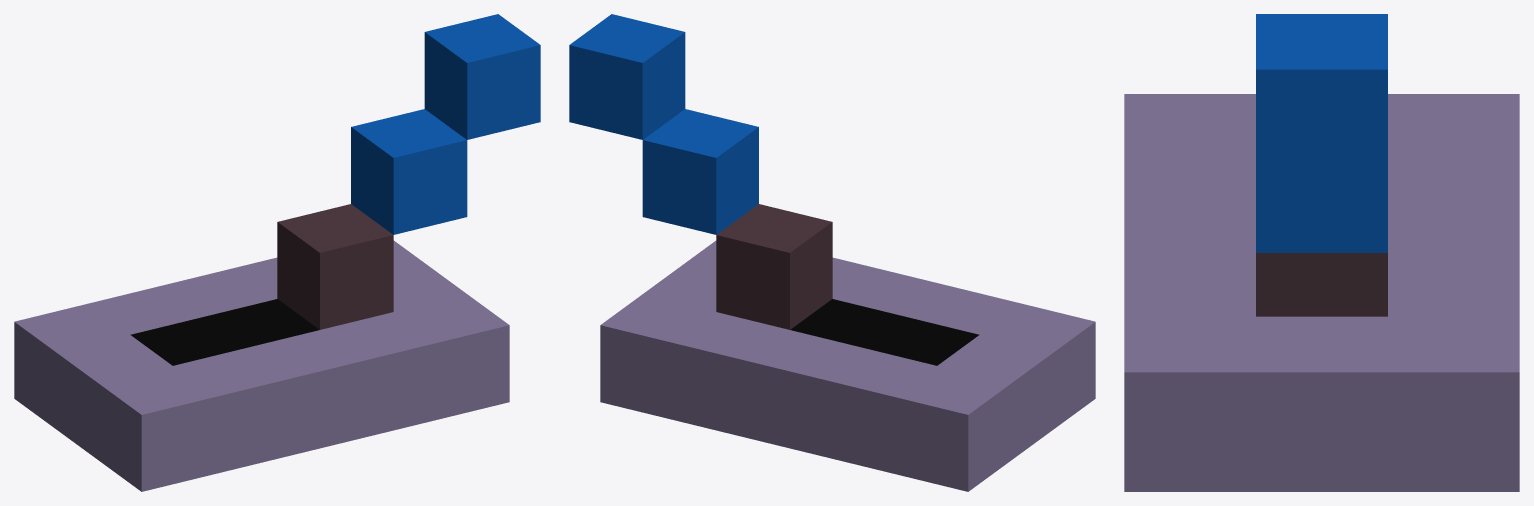
The model's file is lever_a_b_blue_on.obj.
3 views of the same model, side by side, from view 1: azimuth 30°, elevation 25°; view 2: azimuth 150°, elevation 25°; view 3: azimuth 270°, elevation 25° (orthographic). The views are drawn at different scales.
Size of the model in its own units: 0.6 by 0.4 by 0.3.
Materials: 1 (1 with a texture image).
